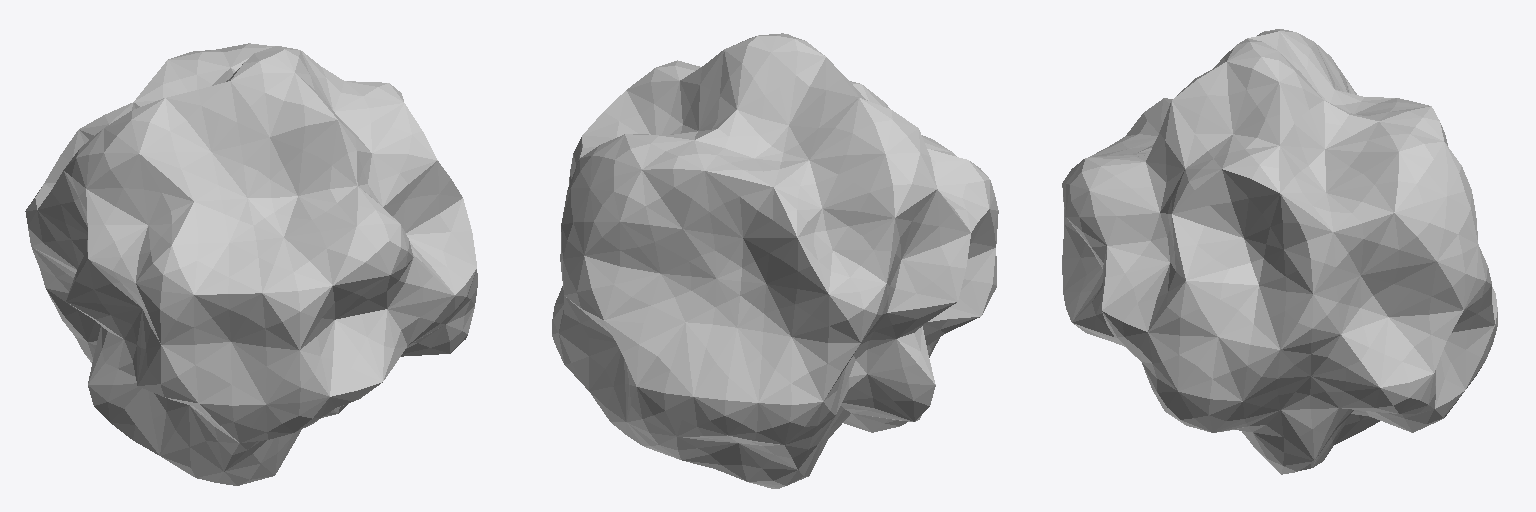
Rendered from Stone.obj.
The picture shows the model from 3 angles: view 1: azimuth 30°, elevation 25°; view 2: azimuth 150°, elevation 25°; view 3: azimuth 270°, elevation 25°; orthographic projection.
Visible parts, largest first — view 1: Icosphere; view 2: Icosphere; view 3: Icosphere.
Part boxes in pixels (x1,y1,x2,y2): Icosphere: (25,43,477,485); Icosphere: (552,33,998,488); Icosphere: (1062,29,1497,474).
Size of the model in its own units: 3.15 by 3.31 by 3.12.